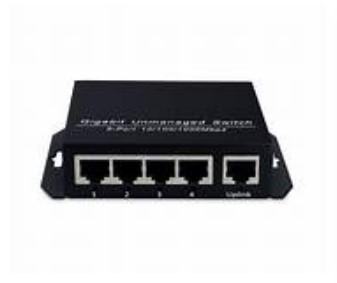NetworkSwitch: (40, 80, 292, 200)
